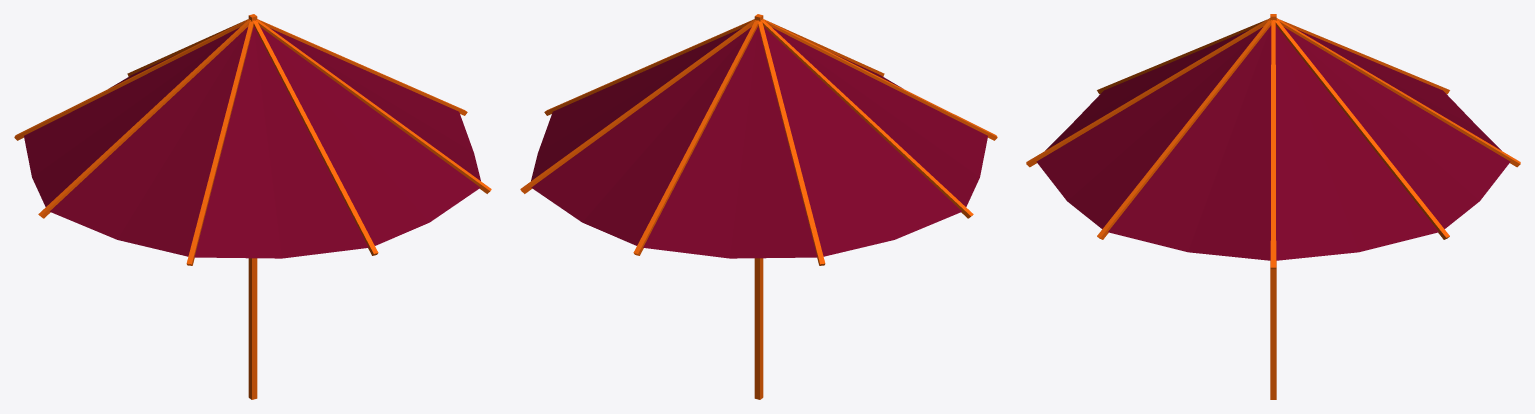
File: umbrella_02.fbx
The picture shows the model from 3 angles, left to right: view 1: azimuth 30°, elevation 25°; view 2: azimuth 150°, elevation 25°; view 3: azimuth 270°, elevation 25°; orthographic projection.
Parts seen in each view (by area): view 1: umbrella_02; view 2: umbrella_02; view 3: umbrella_02.
Part boxes in pixels (left/top/right/bottom): umbrella_02: left=14, top=14, right=491, bottom=399; umbrella_02: left=520, top=14, right=997, bottom=399; umbrella_02: left=1026, top=14, right=1520, bottom=399.
Bounding box in the file's own units: 3.66 × 3.14 × 3.66.
